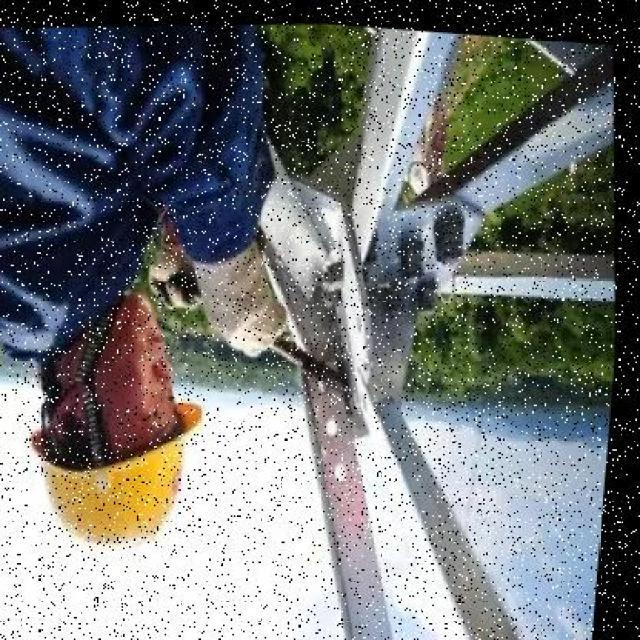helmet: (23, 378, 226, 556)
